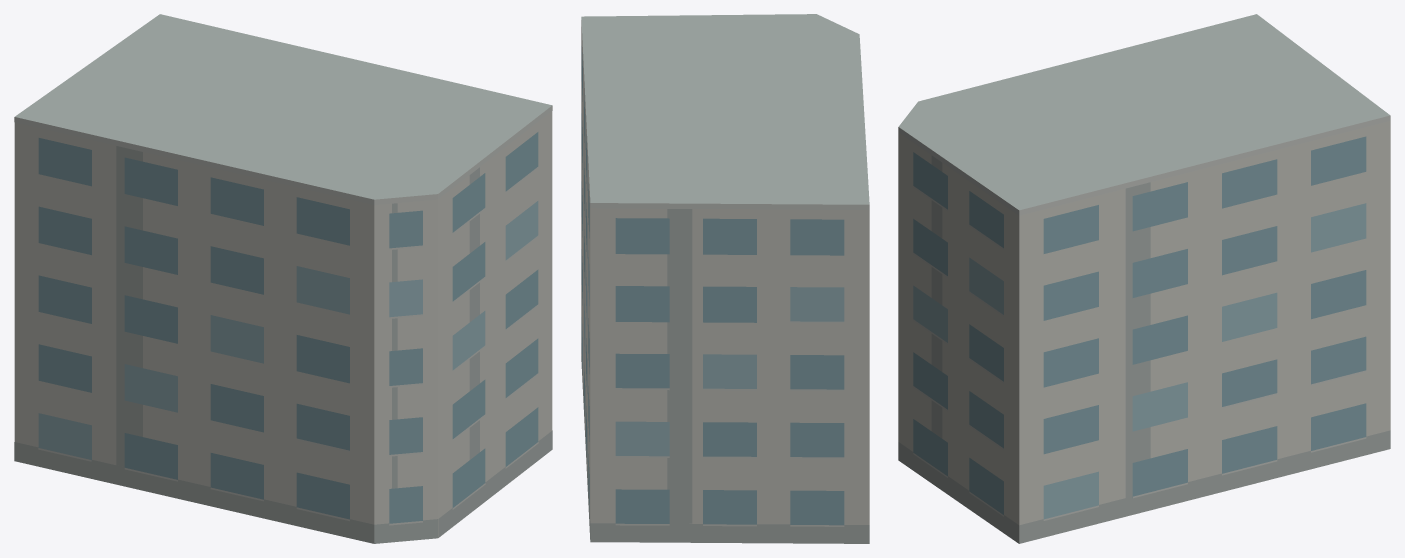
File: survey-upis-32762784.glb
3 views of the same model, side by side, from view 1: azimuth 30°, elevation 25°; view 2: azimuth 150°, elevation 25°; view 3: azimuth 270°, elevation 25° (orthographic). The views are drawn at different scales.
Parts seen in each view (by area): view 1: survey-upis-32762784.tmp; view 2: survey-upis-32762784.tmp; view 3: survey-upis-32762784.tmp.
Boxes of the visible parts, <box> form: survey-upis-32762784.tmp: <box>14,14,552,543</box>; survey-upis-32762784.tmp: <box>581,14,869,543</box>; survey-upis-32762784.tmp: <box>898,14,1390,543</box>.
Bounding box in the file's own units: 19.01 × 15.05 × 20.13.
